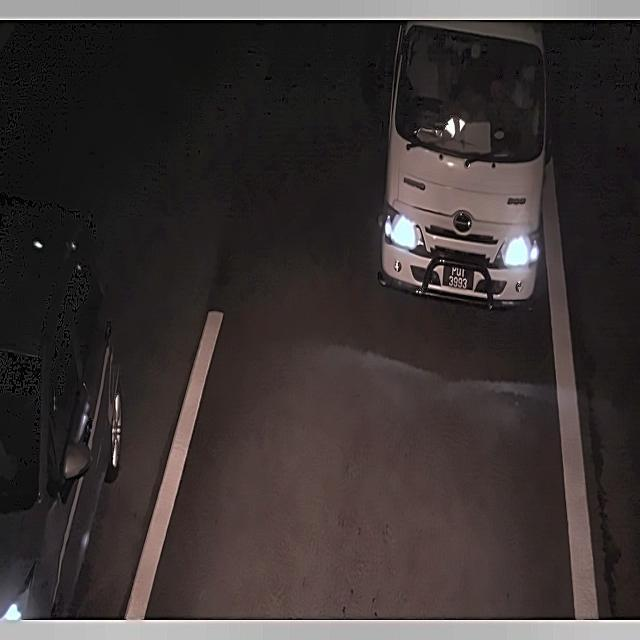car: (439, 258, 480, 296)
